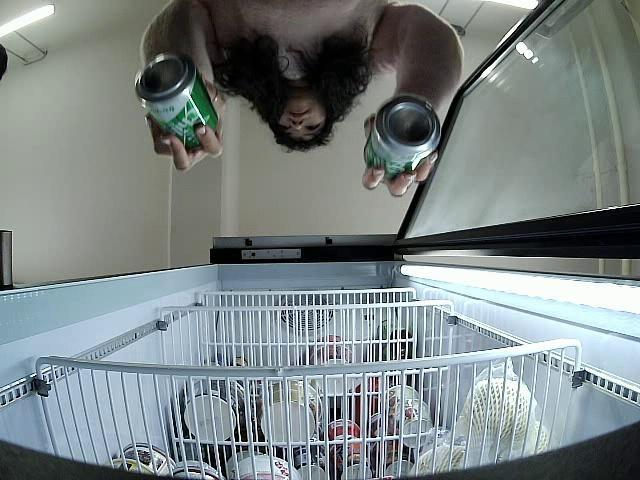12_chilsungCider: (134, 57, 219, 152), (366, 97, 441, 184)
